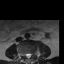CCS_normal: (27, 51, 29, 61)
LFS_stenosis: (31, 51, 34, 57)
LLS_normal: (29, 51, 31, 59)
RFS_stenosis: (22, 52, 25, 58)
RLS_normal: (25, 52, 27, 59)
